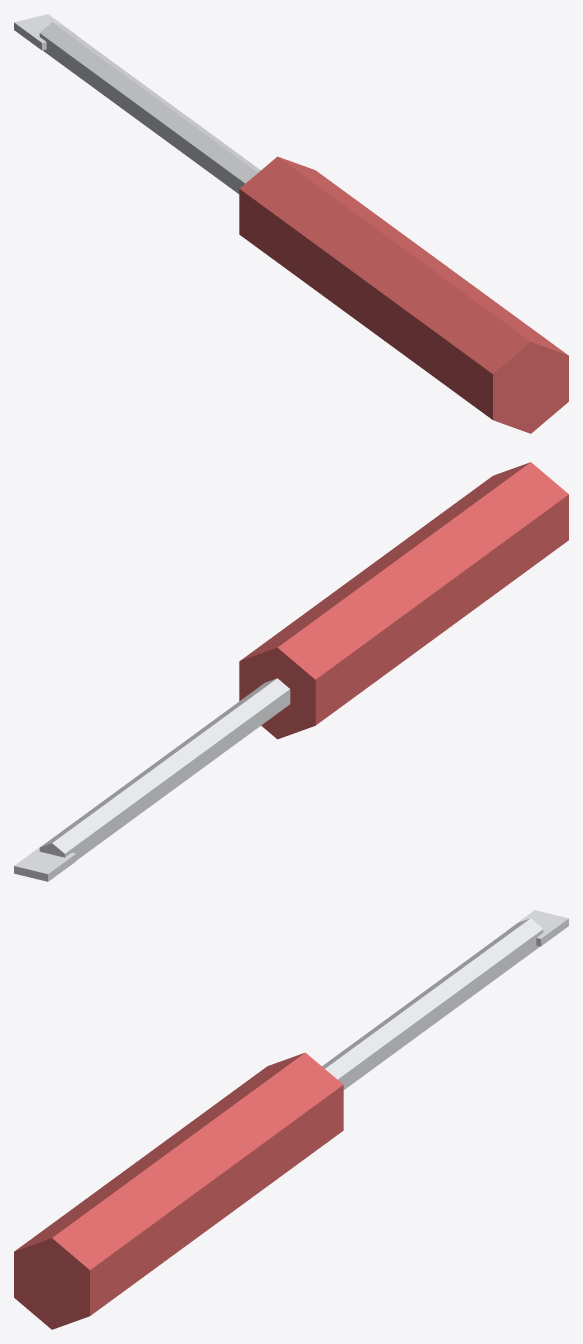
The model's file is screwdriver_held.gltf.
3 renders of one model, top to bottom at view 1: azimuth 30°, elevation 25°; view 2: azimuth 150°, elevation 25°; view 3: azimuth 330°, elevation 25°, orthographic.
Visible parts, largest first — view 1: screwdriver_screwdriver_held; view 2: screwdriver_screwdriver_held; view 3: screwdriver_screwdriver_held.
Boxes of the visible parts, <box> form: screwdriver_screwdriver_held: <box>14,14,568,433</box>; screwdriver_screwdriver_held: <box>14,462,568,881</box>; screwdriver_screwdriver_held: <box>14,910,568,1329</box>.
Bounding box in the file's own units: 0.0312 × 0.036 × 0.355.
